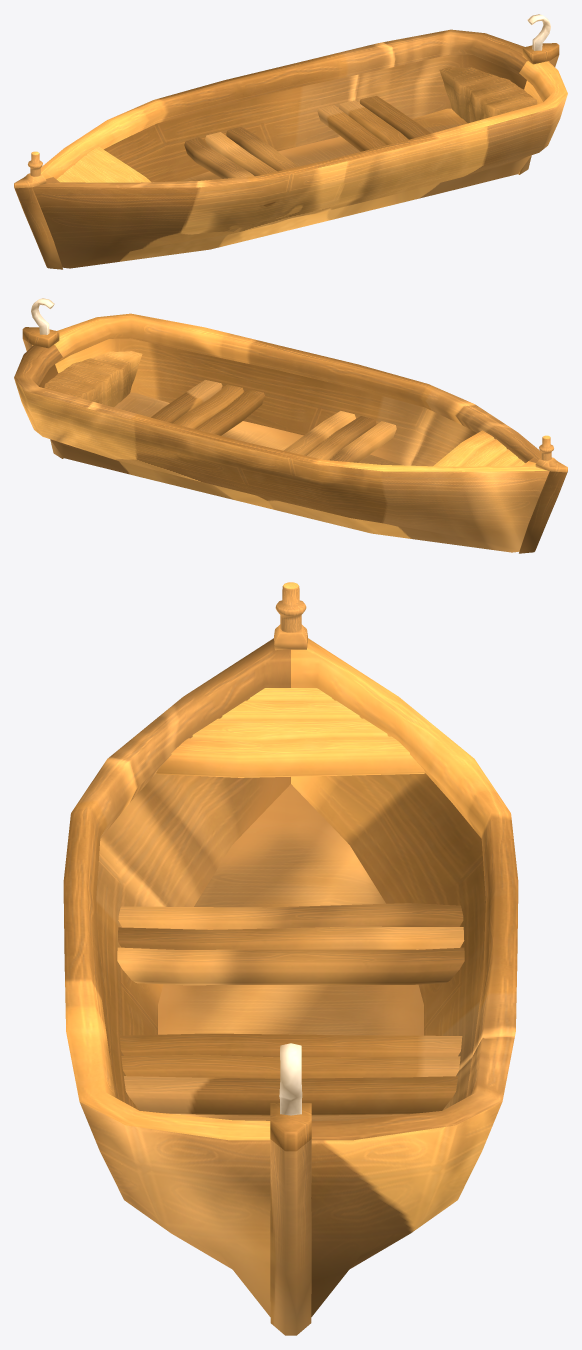
File: SM_Stylized_Boat.fbx
The picture shows the model from 3 angles, top to bottom: view 1: azimuth 30°, elevation 25°; view 2: azimuth 150°, elevation 25°; view 3: azimuth 270°, elevation 25°; orthographic projection. The views are drawn at different scales.
Visible parts, largest first — view 1: SM_Stylized_Boat_LOD0; view 2: SM_Stylized_Boat_LOD0; view 3: SM_Stylized_Boat_LOD0.
Boxes of the visible parts, x1,y1,x2,y2 form: SM_Stylized_Boat_LOD0: [14, 14, 567, 269]; SM_Stylized_Boat_LOD0: [14, 298, 567, 553]; SM_Stylized_Boat_LOD0: [63, 582, 518, 1335].
Size of the model in its own units: 417 by 151 by 110.
